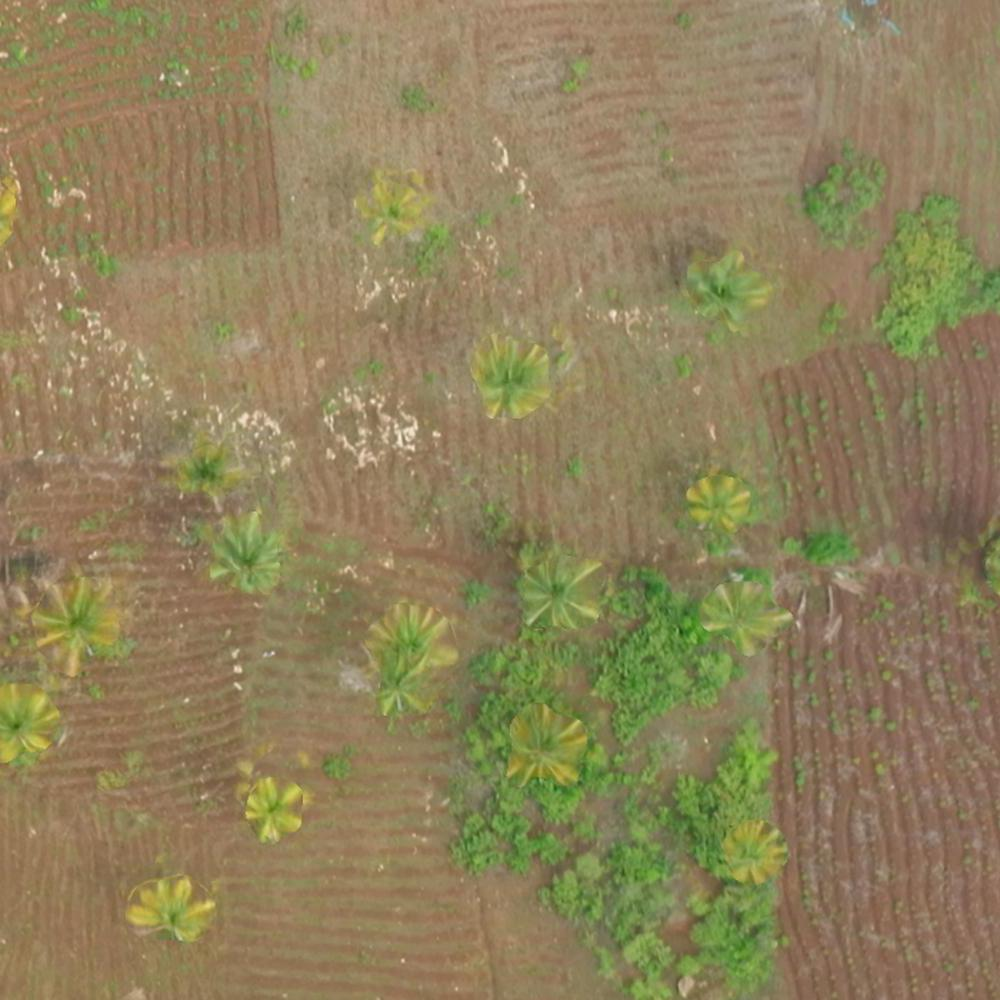Palm: (465, 335, 555, 419), (31, 580, 118, 663), (125, 876, 217, 950), (369, 600, 452, 677), (683, 247, 763, 326), (700, 579, 782, 651), (518, 555, 598, 628), (504, 708, 581, 782), (207, 514, 285, 585), (1, 680, 63, 768), (237, 776, 307, 845), (163, 442, 240, 502), (354, 174, 422, 239), (687, 468, 753, 533), (725, 819, 785, 880)
